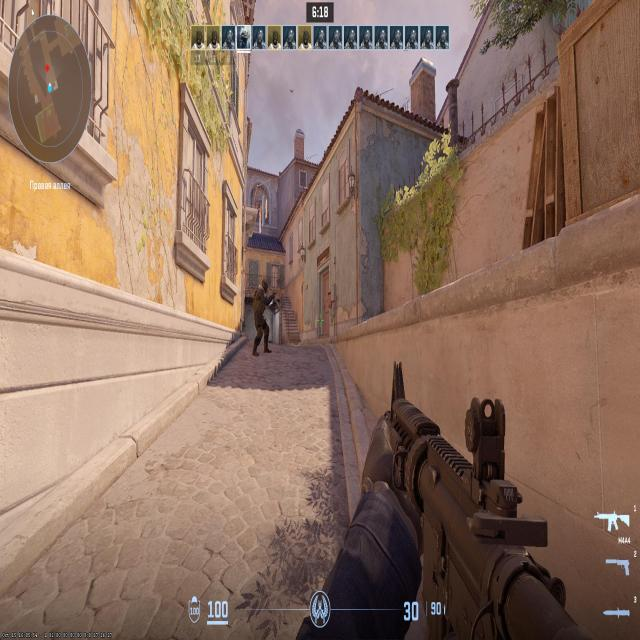CT: (258, 280, 269, 349)
CT_heat: (263, 284, 266, 292)
